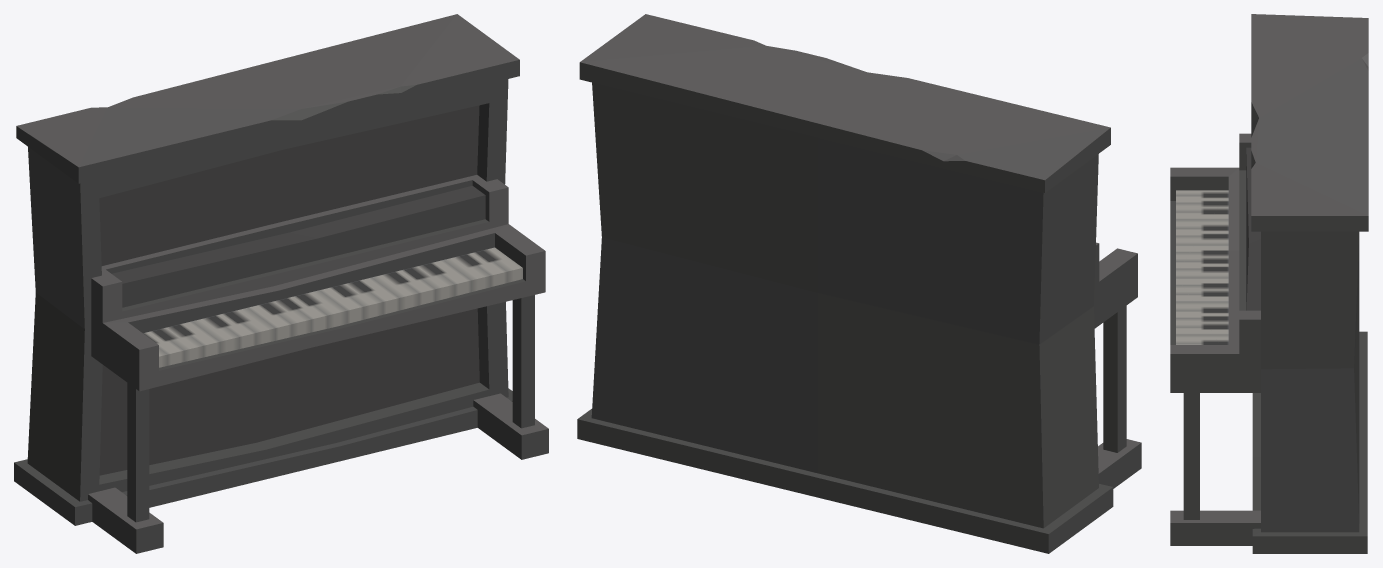
File: SM_Prop_Piano_01.fbx
3 views of the same model, side by side, from view 1: azimuth 30°, elevation 25°; view 2: azimuth 150°, elevation 25°; view 3: azimuth 270°, elevation 25° (orthographic). The views are drawn at different scales.
Visible parts, largest first — view 1: SM_Prop_Piano_01; view 2: SM_Prop_Piano_01; view 3: SM_Prop_Piano_01.
Boxes of the visible parts, x1=… form: SM_Prop_Piano_01: x1=14, y1=14, x2=548, y2=553; SM_Prop_Piano_01: x1=577, y1=14, x2=1141, y2=553; SM_Prop_Piano_01: x1=1170, y1=14, x2=1368, y2=553.
Bounding box in the file's own units: 197 × 151 × 80.86.
